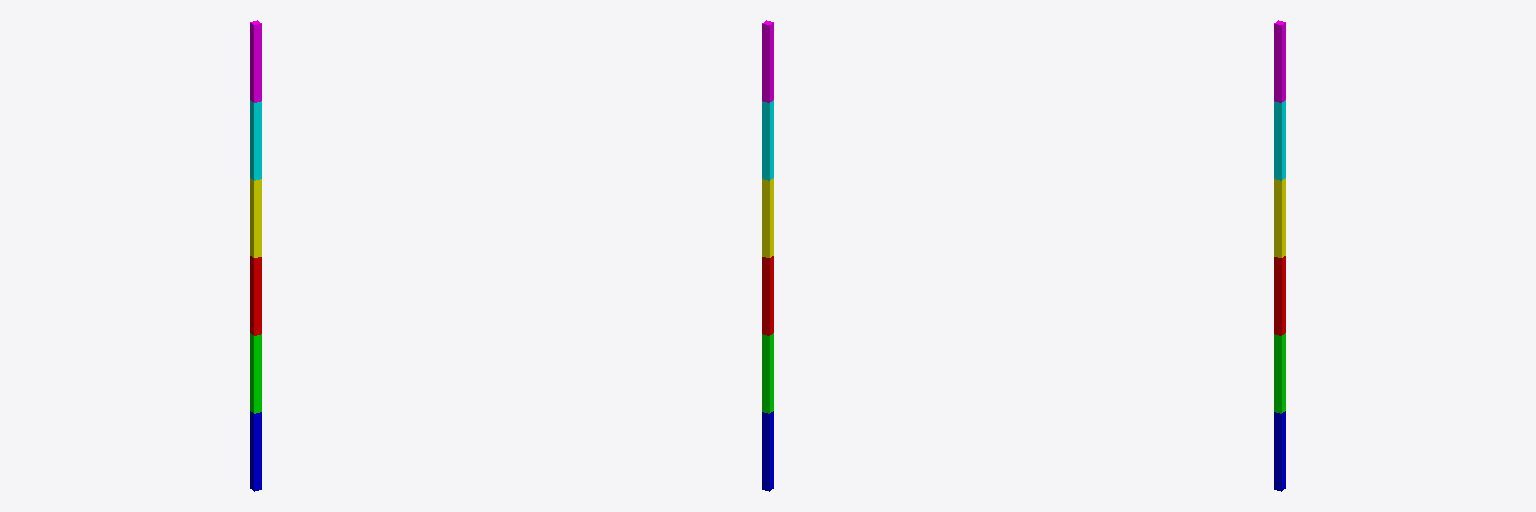
The robot description file, URDF, robot "manipulator":
<?xml version="1.0" ?>
<robot name="manipulator">

  <!-- <link name="world"></link> -->

  <!-- Link 1 -->
  <link name="link1">
    <inertial>
      <mass value="1.0" />
      <origin xyz="0 0 0.5" />
      <inertia ixx="0.1" ixy="0" ixz="0" iyy="0.1" iyz="0" izz="0.1" />
    </inertial>
    <visual>
      <origin xyz="0 0 0.5" />
      <geometry>
        <box size="0.1 0.1 1.0" />
      </geometry>
      <material name="blue">
        <color rgba="0.0 0.0 1.0 1.0" />
      </material>
    </visual>
    <collision>
      <origin xyz="0 0 0.5" />
      <geometry>
        <box size="0.1 0.1 1.0" />
      </geometry>
    </collision>
  </link>

  <!-- Link 2 -->
  <link name="link2">
    <inertial>
      <mass value="1.0" />
      <origin xyz="0 0 0.5" />
      <inertia ixx="0.1" ixy="0" ixz="0" iyy="0.1" iyz="0" izz="0.1" />
    </inertial>
    <visual>
      <origin xyz="0 0 0.5" />
      <geometry>
        <box size="0.1 0.1 1.0" />
      </geometry>
      <material name="green">
        <color rgba="0.0 1.0 0.0 1.0" />
      </material>
    </visual>
    <collision>
      <origin xyz="0 0 0.5" />
      <geometry>
        <box size="0.1 0.1 1.0" />
      </geometry>
    </collision>
  </link>

  <!-- Link 3 -->
  <link name="link3">
    <inertial>
      <mass value="1.0" />
      <origin xyz="0 0 0.5" />
      <inertia ixx="0.1" ixy="0" ixz="0" iyy="0.1" iyz="0" izz="0.1" />
    </inertial>
    <visual>
      <origin xyz="0 0 0.5" />
      <geometry>
        <box size="0.1 0.1 1.0" />
      </geometry>
      <material name="red">
        <color rgba="1.0 0.0 0.0 1.0" />
      </material>
    </visual>
    <collision>
      <origin xyz="0 0 0.5" />
      <geometry>
        <box size="0.1 0.1 1.0" />
      </geometry>
    </collision>
  </link>

  <!-- Link 4 -->
  <link name="link4">
    <inertial>
      <mass value="1.0" />
      <origin xyz="0 0 0.5" />
      <inertia ixx="0.1" ixy="0" ixz="0" iyy="0.1" iyz="0" izz="0.1" />
    </inertial>
    <visual>
      <origin xyz="0 0 0.5" />
      <geometry>
        <box size="0.1 0.1 1.0" />
      </geometry>
      <material name="yellow">
        <color rgba="1.0 1.0 0.0 1.0" />
      </material>
    </visual>
    <collision>
      <origin xyz="0 0 0.5" />
      <geometry>
        <box size="0.1 0.1 1.0" />
      </geometry>
    </collision>
  </link>

  <!-- Link 5 -->
  <link name="link5">
    <inertial>
      <mass value="1.0" />
      <origin xyz="0 0 0.5" />
      <inertia ixx="0.1" ixy="0" ixz="0" iyy="0.1" iyz="0" izz="0.1" />
    </inertial>
    <visual>
      <origin xyz="0 0 0.5" />
      <geometry>
        <box size="0.1 0.1 1.0" />
      </geometry>
      <material name="cyan">
        <color rgba="0.0 1.0 1.0 1.0" />
      </material>
    </visual>
    <collision>
      <origin xyz="0 0 0.5" />
      <geometry>
        <box size="0.1 0.1 1.0" />
      </geometry>
    </collision>
  </link>

  <!-- Link 6 -->
  <link name="link6">
    <inertial>
      <mass value="1.0" />
      <origin xyz="0 0 0.5" />
      <inertia ixx="0.1" ixy="0" ixz="0" iyy="0.1" iyz="0" izz="0.1" />
    </inertial>
    <visual>
      <origin xyz="0 0 0.5" />
      <geometry>
        <box size="0.1 0.1 1.0" />
      </geometry>
      <material name="magenta">
        <color rgba="1.0 0.0 1.0 1.0" />
      </material>
    </visual>
    <collision>
      <origin xyz="0 0 0.5" />
      <geometry>
        <box size="0.1 0.1 1.0" />
      </geometry>
    </collision>
  </link>



  <!-- Joint 2 -->
  <joint name="joint2" type="revolute">
    <parent link="link1" />
    <child link="link2" />
    <origin xyz="0 0 1.0" rpy="0 0 0" />
    <axis xyz="0 1 0" />
    <limit effort="100.0" lower="-3.14" upper="3.14" velocity="1.0" />
    <dynamics damping="0.1" friction="0.0" />
  </joint>

  <!-- Joint 3 -->
  <joint name="joint3" type="revolute">
    <parent link="link2" />
    <child link="link3" />
    <origin xyz="0 0 1.0" rpy="0 0 0" />
    <axis xyz="0 1 0" />
    <limit effort="100.0" lower="-3.14" upper="3.14" velocity="1.0" />
    <dynamics damping="0.1" friction="0.0" />
  </joint>

  <!-- Joint 4 -->
  <joint name="joint4" type="revolute">
    <parent link="link3" />
    <child link="link4" />
    <origin xyz="0 0 1.0" rpy="0 0 0" />
    <axis xyz="0 1 0" />
    <limit effort="100.0" lower="-3.14" upper="3.14" velocity="1.0" />
    <dynamics damping="0.1" friction="0.0" />
  </joint>

  <!-- Joint 5 -->
  <joint name="joint5" type="revolute">
    <parent link="link4" />
    <child link="link5" />
    <origin xyz="0 0 1.0" rpy="0 0 0" />
    <axis xyz="0 1 0" />
    <limit effort="100.0" lower="-3.14" upper="3.14" velocity="1.0" />
    <dynamics damping="0.1" friction="0.0" />
  </joint>

  <!-- Joint 6 -->
  <joint name="joint6" type="revolute">
    <parent link="link5" />
    <child link="link6" />
    <origin xyz="0 0 1.0" rpy="0 0 0" />
    <axis xyz="0 1 0" />
    <limit effort="100.0" lower="-3.14" upper="3.14" velocity="1.0" />
    <dynamics damping="0.1" friction="0.0" />
  </joint>

</robot>

--- Render facts (derived) ---
The picture shows the robot from 3 angles, left to right: view 1: azimuth 30°, elevation 25°; view 2: azimuth 150°, elevation 25°; view 3: azimuth 330°, elevation 25°; orthographic projection.
Model manipulator with 6 links and 5 joints (5 revolute), rooted at link1, posed every joint at zero.
Links seen in each view (by area): view 1: link6, link1, link2, link5, link3, link4; view 2: link6, link1, link2, link5, link3, link4; view 3: link6, link1, link2, link5, link3, link4.
Boxes of the visible links, <box> form: link6: <box>250,20,261,102</box>; link1: <box>250,411,261,491</box>; link2: <box>250,333,261,413</box>; link5: <box>250,100,261,180</box>; link3: <box>250,256,261,335</box>; link4: <box>250,178,261,257</box>; link6: <box>762,20,773,102</box>; link1: <box>762,411,773,491</box>; link2: <box>762,333,773,413</box>; link5: <box>762,100,773,180</box>; link3: <box>762,256,773,335</box>; link4: <box>762,178,773,257</box>; link6: <box>1274,20,1285,102</box>; link1: <box>1274,411,1285,491</box>; link2: <box>1274,333,1285,413</box>; link5: <box>1274,100,1285,180</box>; link3: <box>1274,256,1285,335</box>; link4: <box>1274,178,1285,257</box>.
Bounding box of the posed robot: 0.1 × 0.1 × 6 m (x, y, z).
Geometry: primitives only (box / cylinder / sphere), no mesh files.
